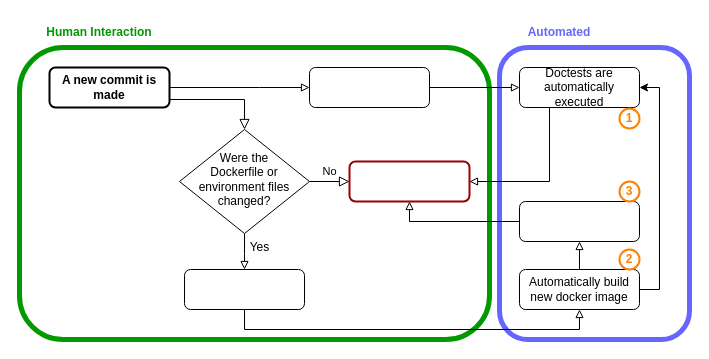
Some shapes in this 709 by 359 pixel diagram are drawn without their labels. Each missing label, with the centre of its shape:
Commit is pushed to remote: pixel 369 87
Deploy microservice to GCP: pixel 579 221
Finished: pixel 409 181
Push new tag containing the new version number: pixel 244 289
